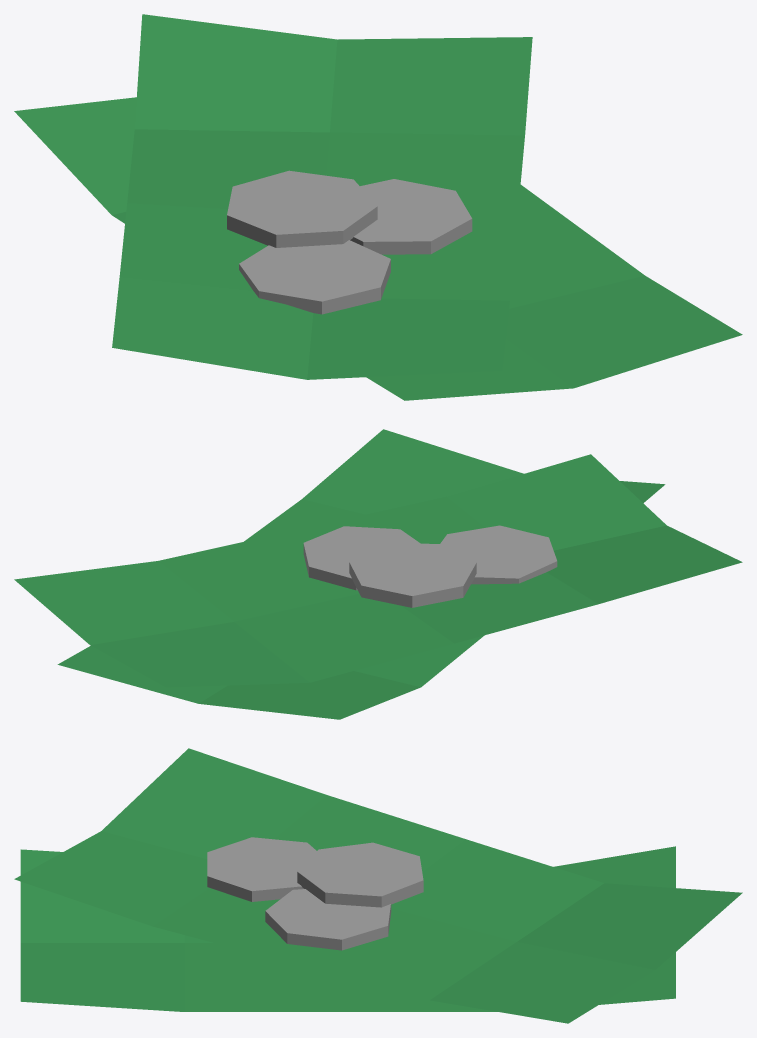
File: Money.fbx
3 views of the same model, one above another, from view 1: azimuth 30°, elevation 25°; view 2: azimuth 150°, elevation 25°; view 3: azimuth 270°, elevation 25° (orthographic). The views are drawn at different scales.
Parts seen in each view (by area): view 1: Money; view 2: Money; view 3: Money.
Boxes of the visible parts, x1,y1,x2,y2 form: Money: [14, 14, 742, 400]; Money: [14, 429, 742, 719]; Money: [14, 748, 742, 1023].
Bounding box in the file's own units: 19.12 × 1.68 × 22.25.
